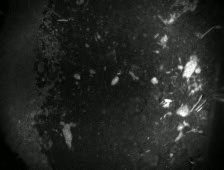corn: (68, 70, 83, 82), (107, 74, 120, 87)
